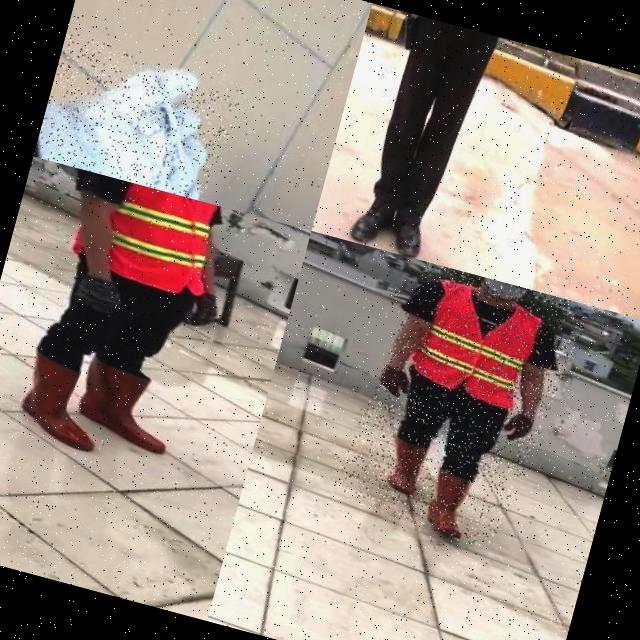boots: (63, 353, 216, 467), (0, 339, 124, 459), (416, 465, 486, 544), (376, 432, 436, 498), (346, 192, 400, 251), (382, 206, 436, 261)
vest: (35, 163, 238, 310), (398, 271, 555, 417)
